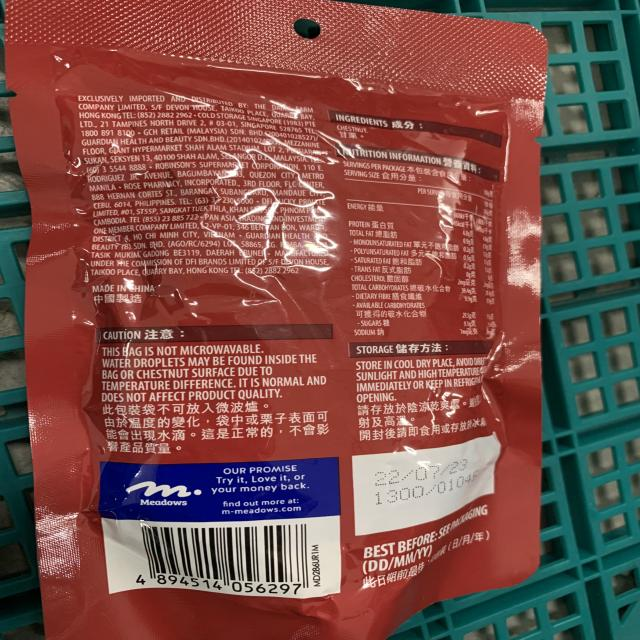object_name: (19, 0, 542, 631)
